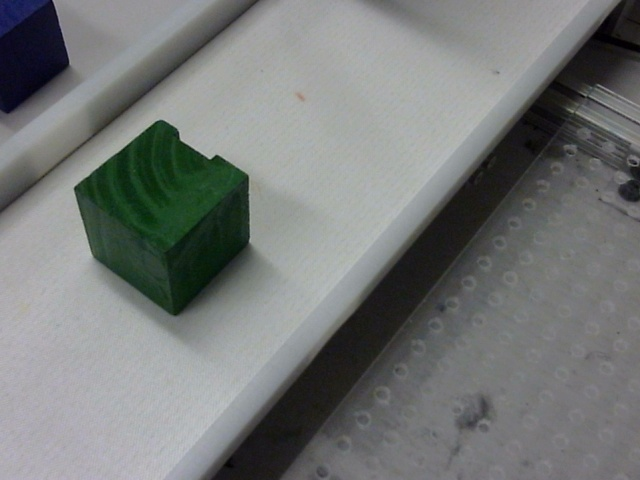GreenBlock: (74, 119, 251, 318)
